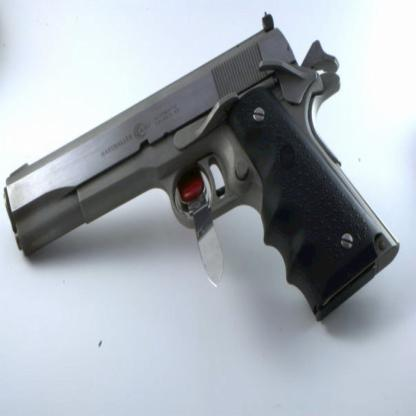Handgun: (2, 10, 399, 322)
